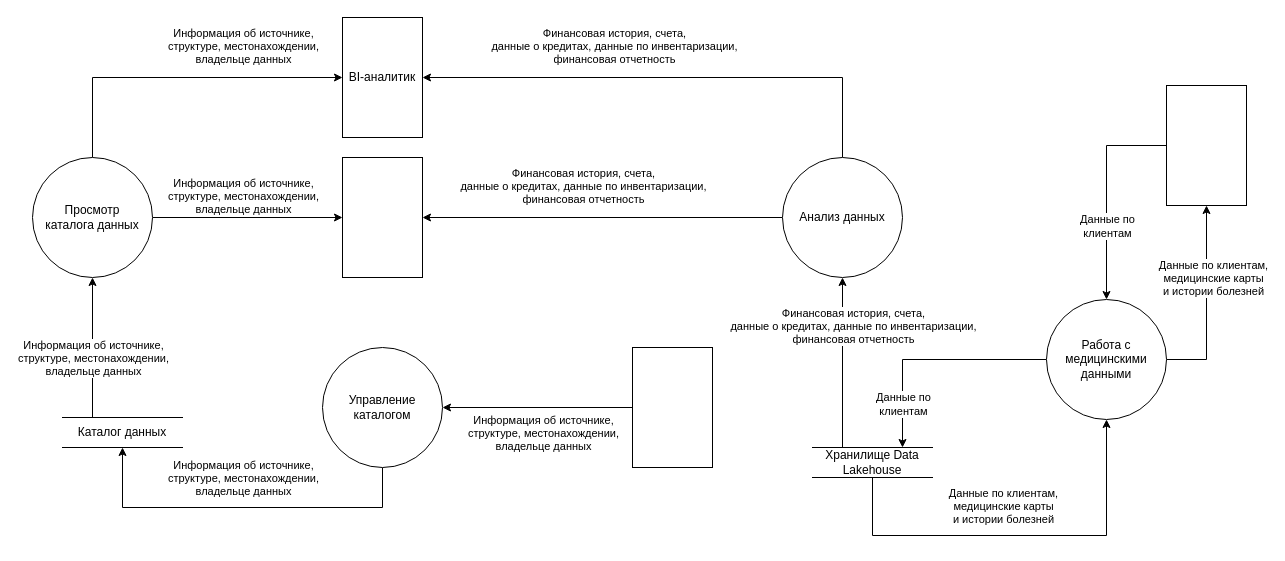
Some shapes in this 1285 by 561 pixel diagram are drawn without their labels. Here are the shapes that lost their labels. From the top down, the centre of each, then its label:
At point (1206, 145): "Оператор".
At point (382, 217): "ML-инженер".
At point (672, 407): "Владелец данных".
